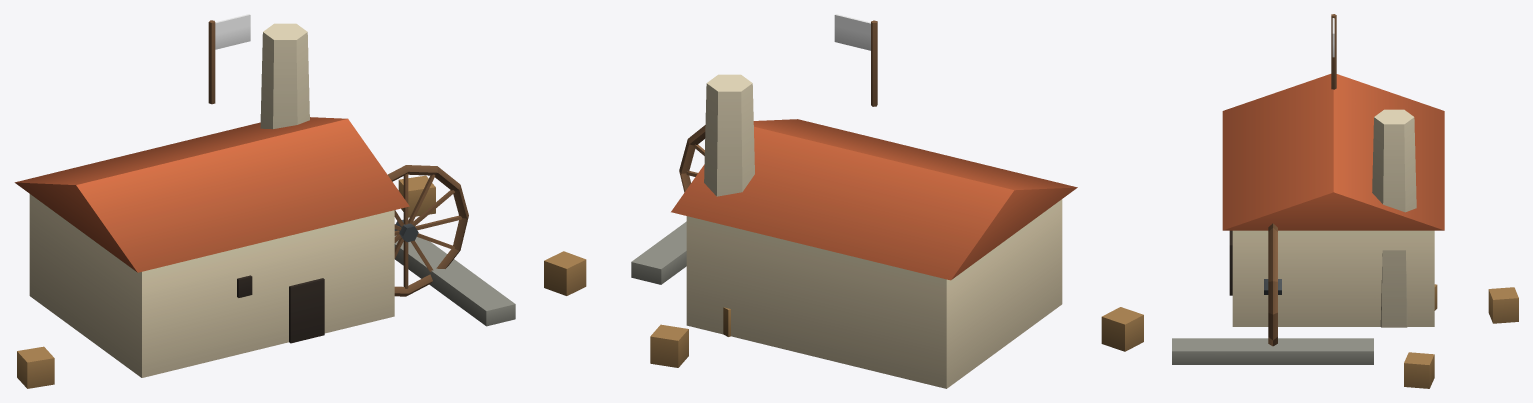
Rendered from FACTORY_ME.glb.
3 renders of one model, left to right at view 1: azimuth 30°, elevation 25°; view 2: azimuth 150°, elevation 25°; view 3: azimuth 270°, elevation 25°, orthographic. The views are drawn at different scales.
Parts seen in each view (by area): view 1: Body, Wheel_water, Flag; view 2: Body, Flag, Wheel_water; view 3: Body, Wheel_water.
Boxes of the visible parts, x1,y1,x2,y2 form: Body: (14, 20, 515, 388); Wheel_water: (388, 165, 468, 296); Flag: (215, 14, 250, 49); Body: (544, 20, 1143, 388); Flag: (834, 14, 870, 50); Wheel_water: (679, 125, 705, 192); Body: (1172, 14, 1518, 388); Wheel_water: (1264, 223, 1281, 346).
Size of the model in its own units: 5.05 by 2.85 by 3.43.
1 material, 1 textured.
